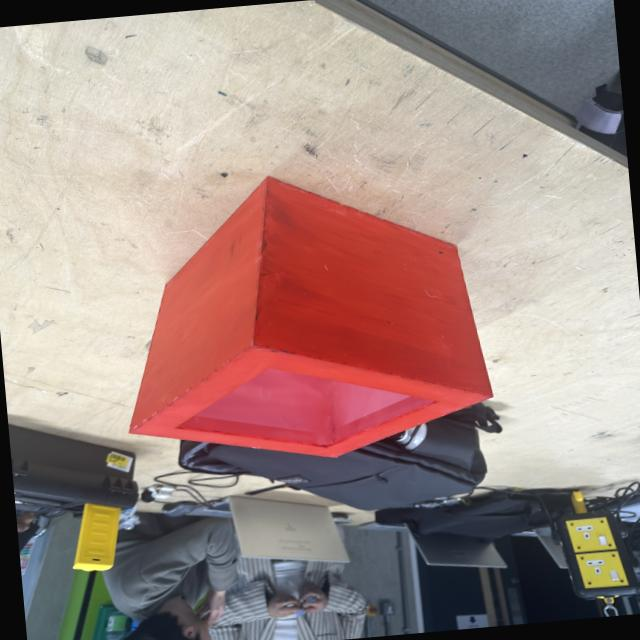red_bin: (105, 158, 498, 476)
